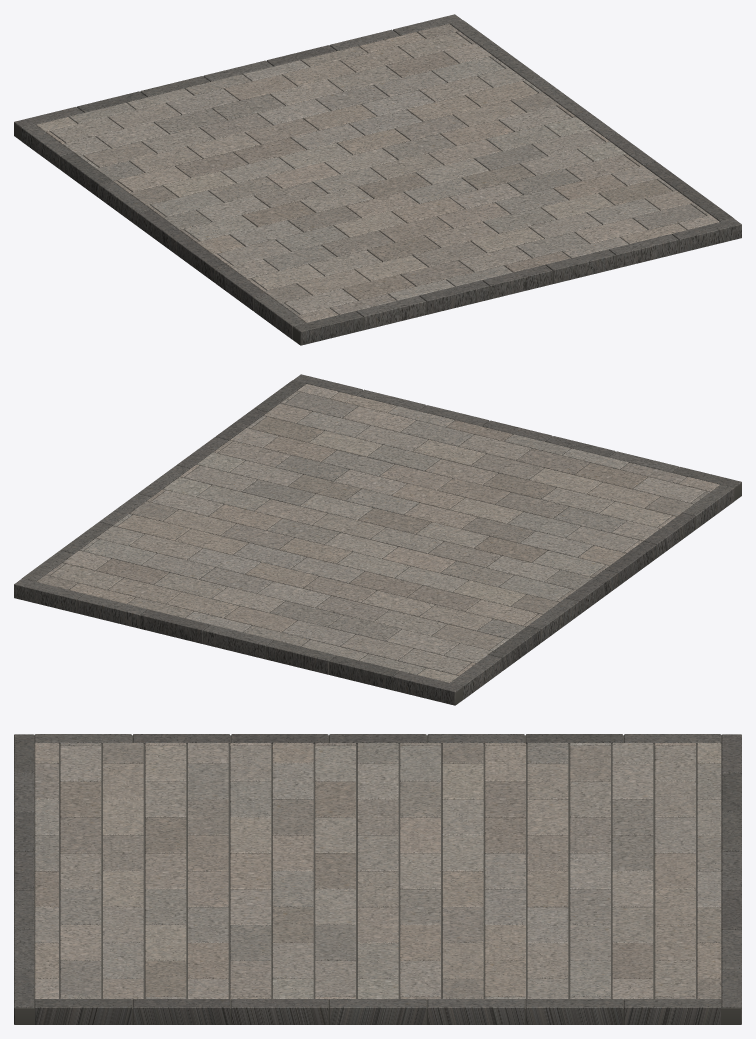
File: floor-paving-large.glb
The picture shows the model from 3 angles, top to bottom: view 1: azimuth 30°, elevation 25°; view 2: azimuth 150°, elevation 25°; view 3: azimuth 270°, elevation 25°; orthographic projection. The views are drawn at different scales.
Visible parts, largest first — view 1: Individually_sawn_paving, Perimeter_granite, Compacted_base_and_visible_joints; view 2: Individually_sawn_paving, Perimeter_granite, Compacted_base_and_visible_joints; view 3: Individually_sawn_paving, Perimeter_granite, Compacted_base_and_visible_joints.
Part boxes in pixels (<box>): Individually_sawn_paving: <box>36,24,719,322</box>; Perimeter_granite: <box>14,14,741,345</box>; Compacted_base_and_visible_joints: <box>14,32,705,345</box>; Individually_sawn_paving: <box>36,384,719,682</box>; Perimeter_granite: <box>14,374,741,705</box>; Compacted_base_and_visible_joints: <box>50,392,741,705</box>; Individually_sawn_paving: <box>34,743,721,999</box>; Perimeter_granite: <box>14,734,741,1024</box>; Compacted_base_and_visible_joints: <box>14,735,741,1024</box>.
Bounding box in the file's own units: 3.2 × 0.097 × 3.6.
2 materials, 1 textured.
